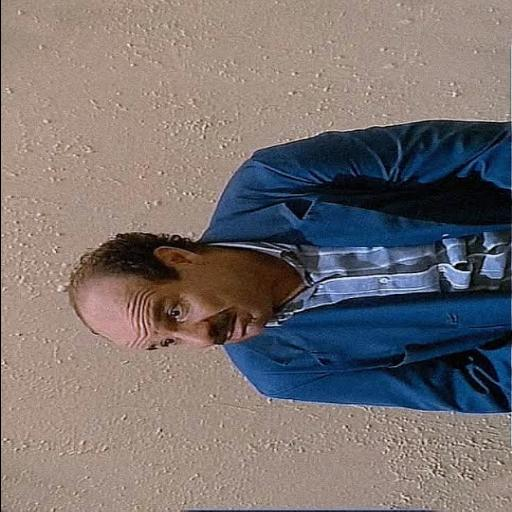beji_matrix: (67, 233, 269, 349)
